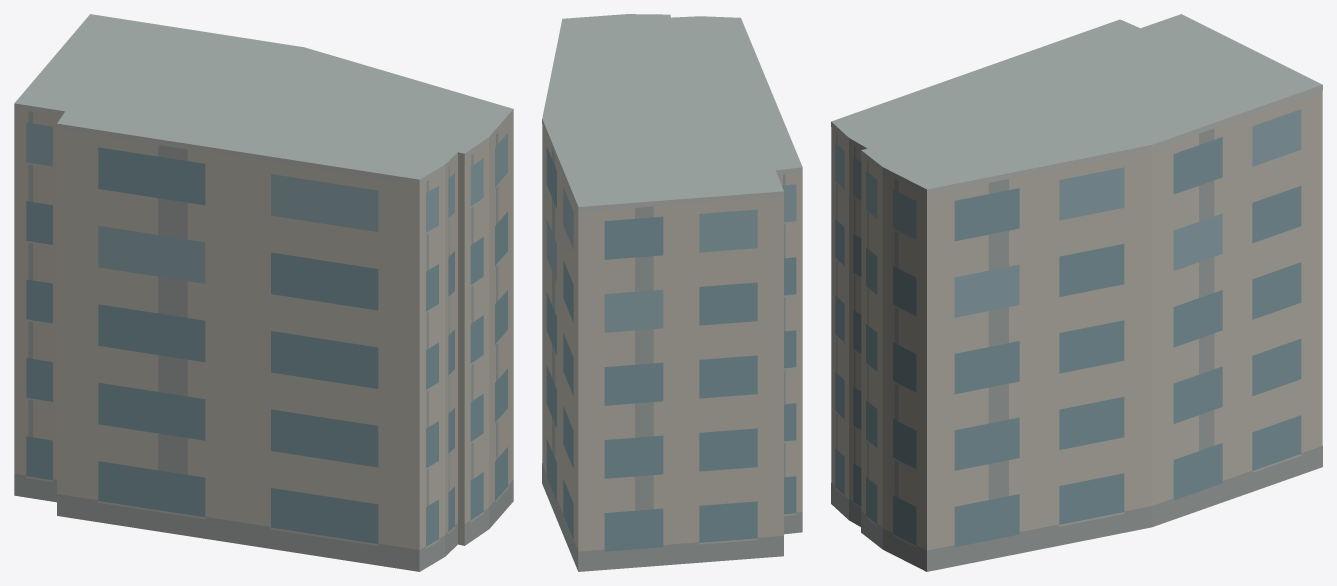
The model's file is survey-upis-32489137.glb.
3 renders of one model, left to right at view 1: azimuth 30°, elevation 25°; view 2: azimuth 150°, elevation 25°; view 3: azimuth 270°, elevation 25°, orthographic. The views are drawn at different scales.
Visible parts, largest first — view 1: survey-upis-32489137.tmp; view 2: survey-upis-32489137.tmp; view 3: survey-upis-32489137.tmp.
Part boxes in pixels (<box>): survey-upis-32489137.tmp: <box>14,14,513,571</box>; survey-upis-32489137.tmp: <box>542,14,802,571</box>; survey-upis-32489137.tmp: <box>831,14,1322,571</box>.
Size of the model in its own units: 16.52 by 16.78 by 19.56.
